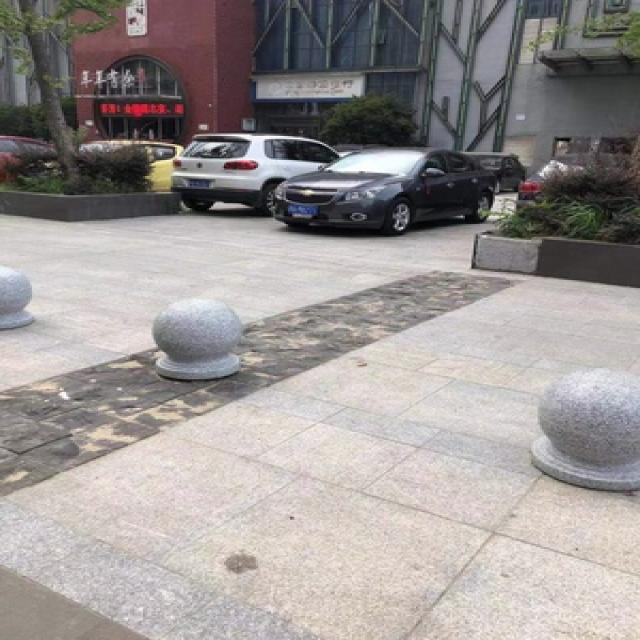car: (271, 146, 495, 234), (169, 128, 337, 214)
spherical_roadblock: (529, 365, 638, 491), (154, 294, 239, 378), (0, 262, 34, 328)
